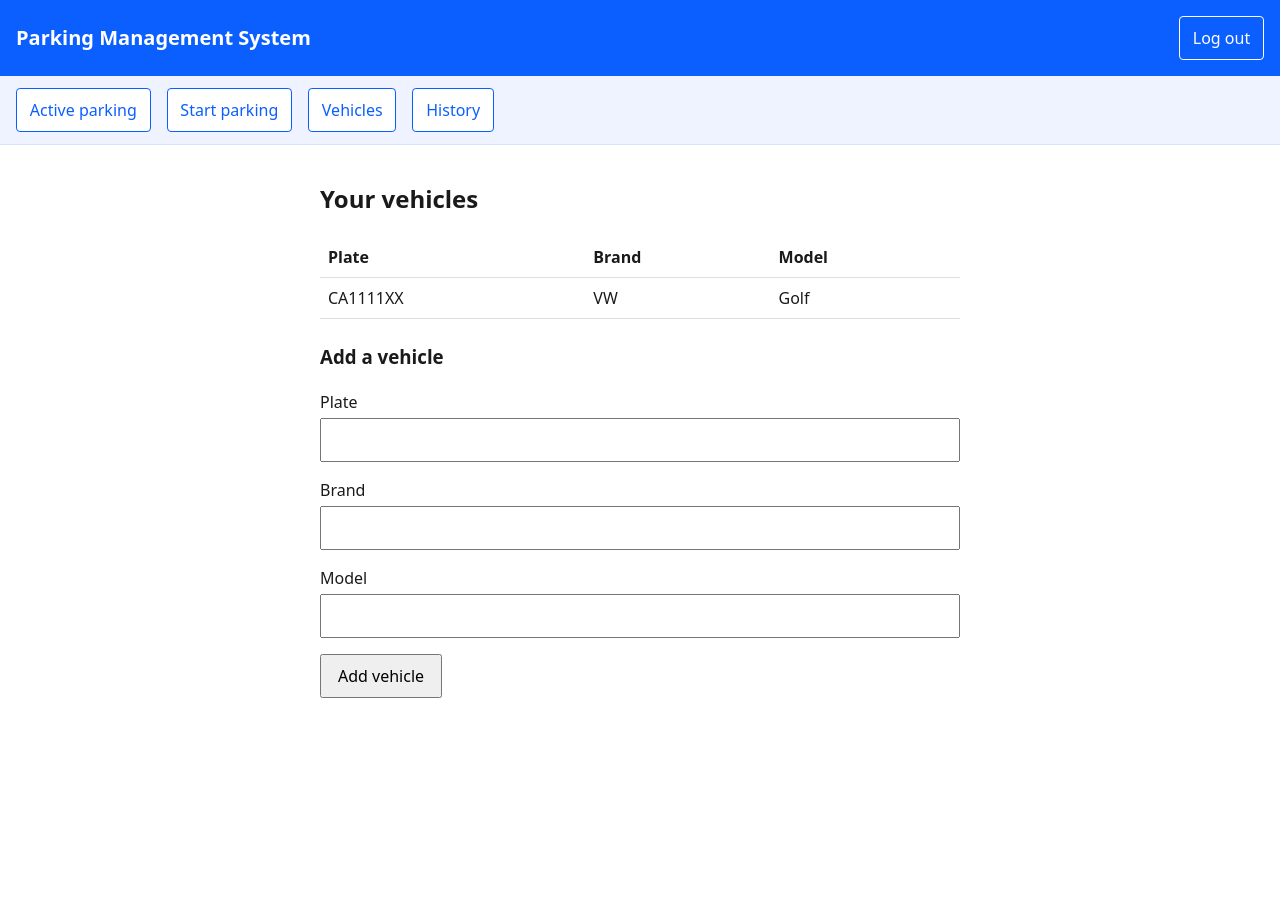
VehiclesPage › posts the entered plate/brand/model and shows the new vehicle in the refreshed list
The width and height of the screenshot is (1280, 900).
Expected: the text "CA1111XX" is shown, [320,277,585,318]
Type "CA3333XX" into the field labelled "Plate" at [640, 440], box [320,418,960,462]
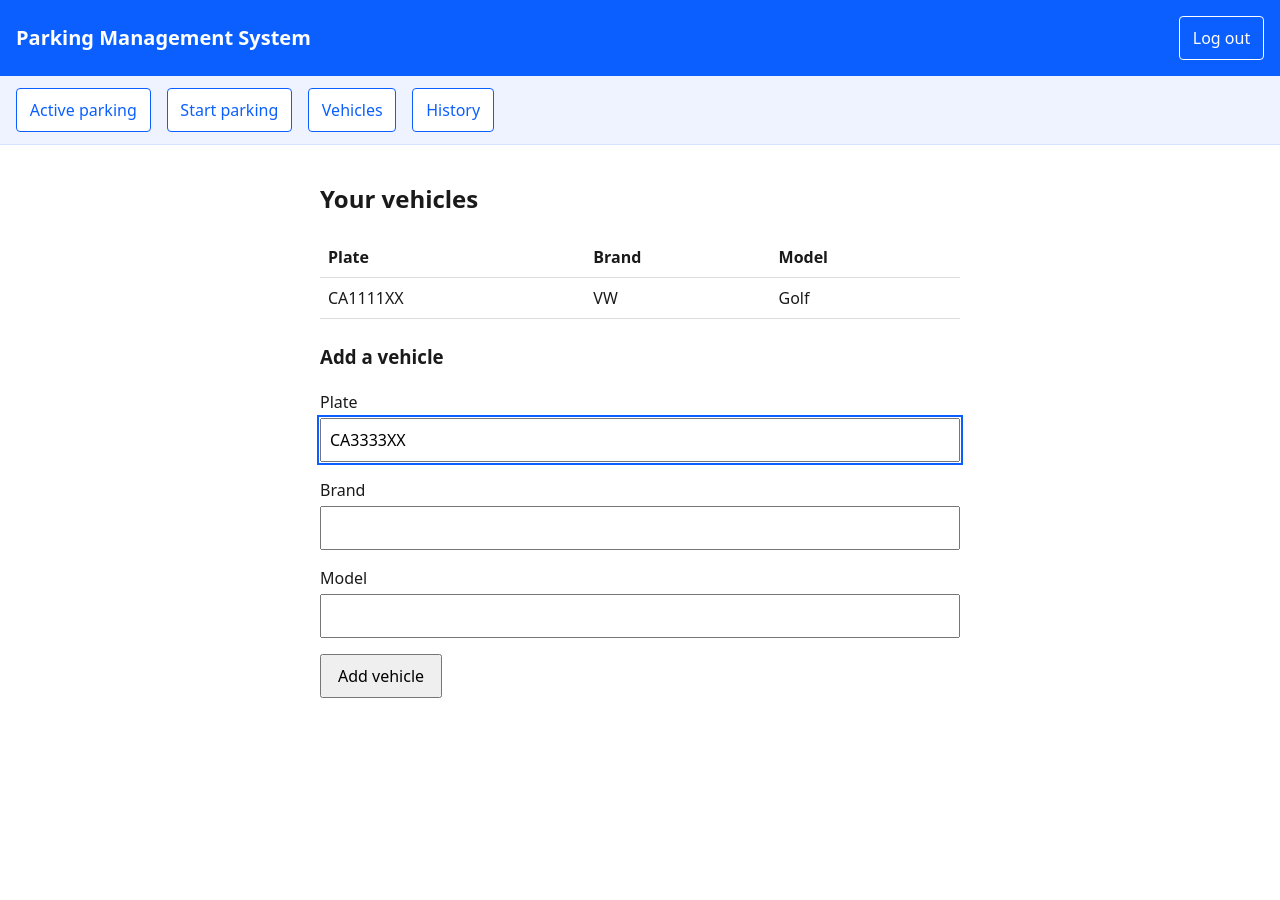
Type "Honda" into the field labelled "Brand" at [640, 528], box [320,506,960,550]
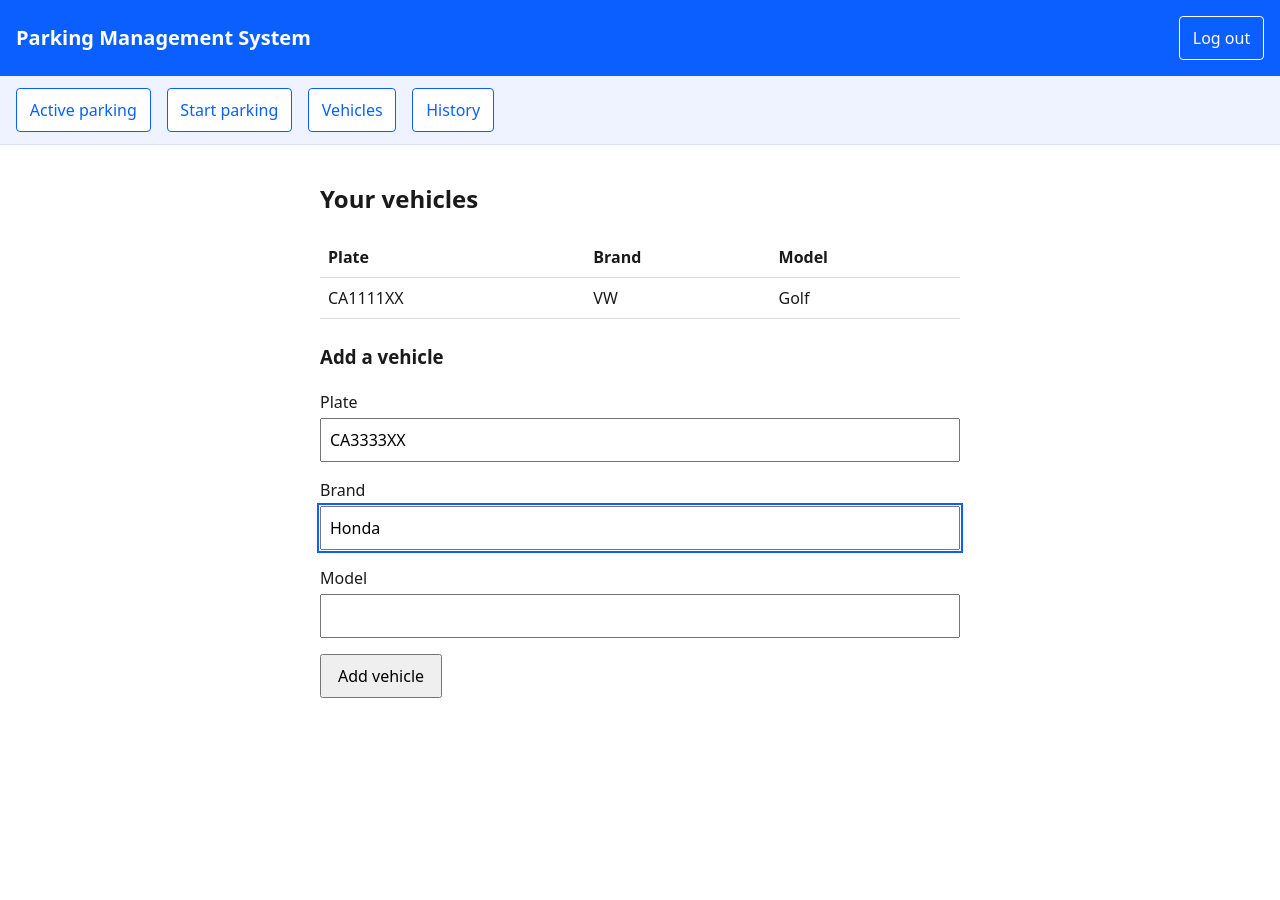
Type "Civic" into the field labelled "Model" at [640, 616], box [320,594,960,638]
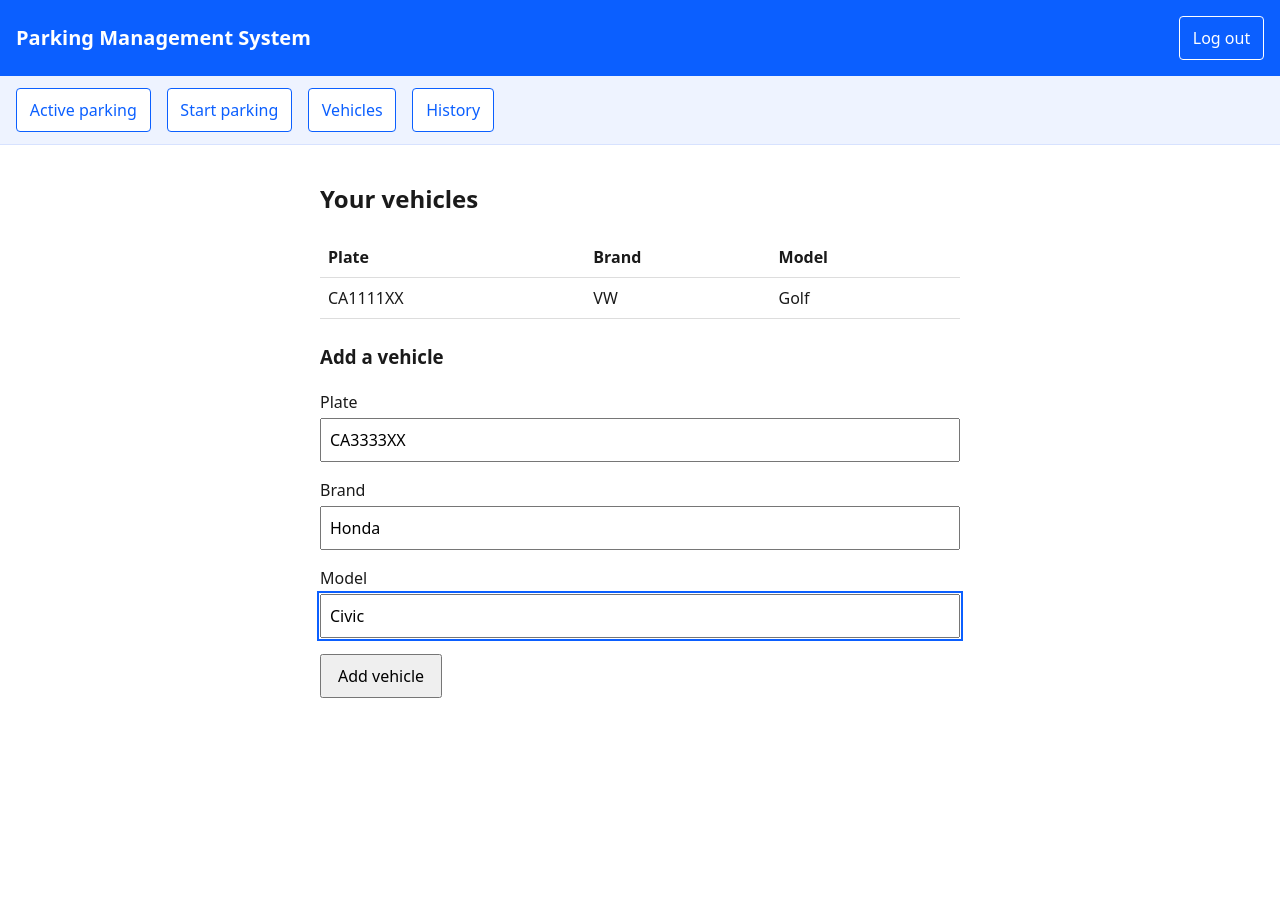
Click the button "Add vehicle" at [381, 676], box [320,654,442,698]
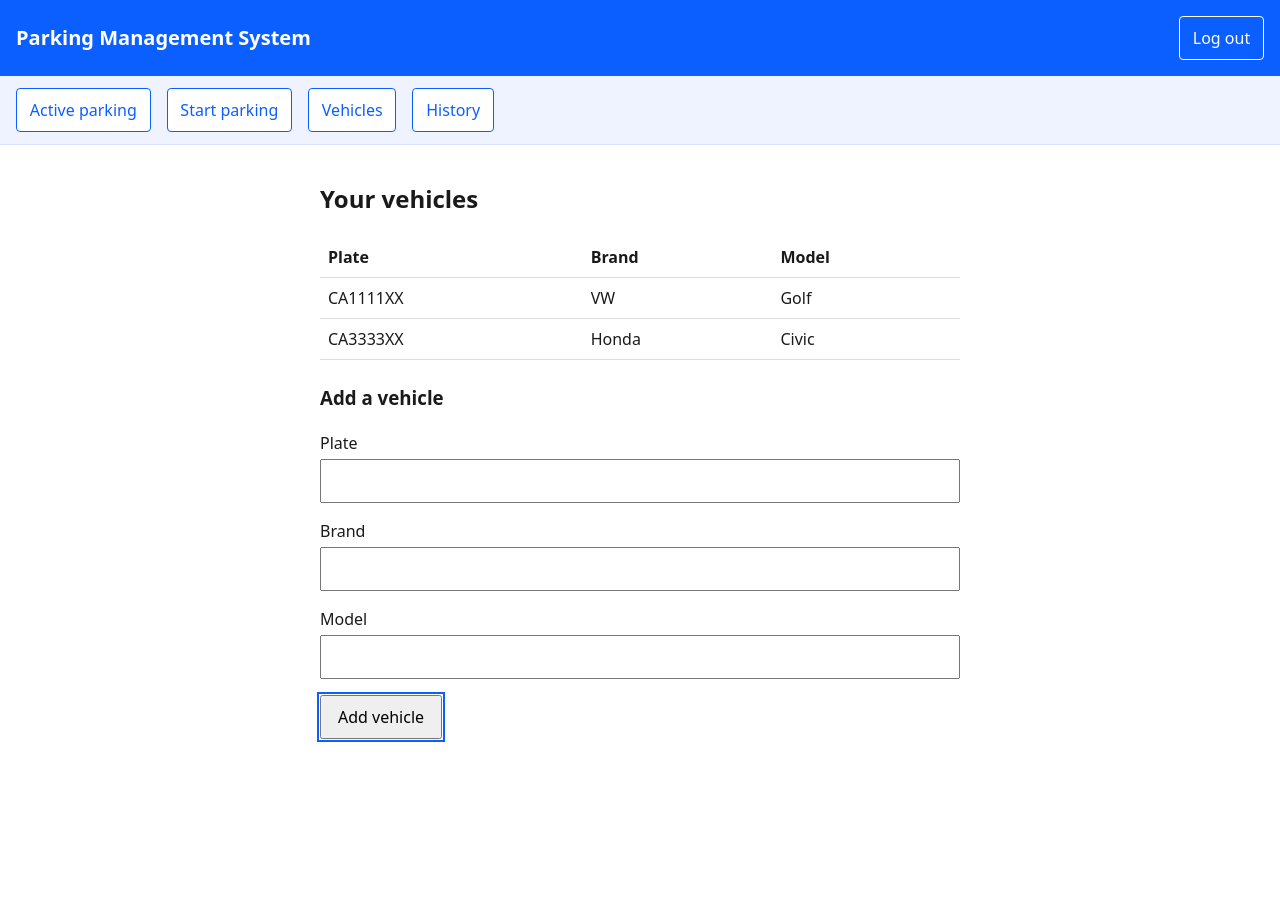
Expected: the text "CA3333XX" is shown, [320,318,583,359]
Expected: the text "Honda" is shown, [583,318,772,359]
Expected: the text "Civic" is shown, [772,318,960,359]
